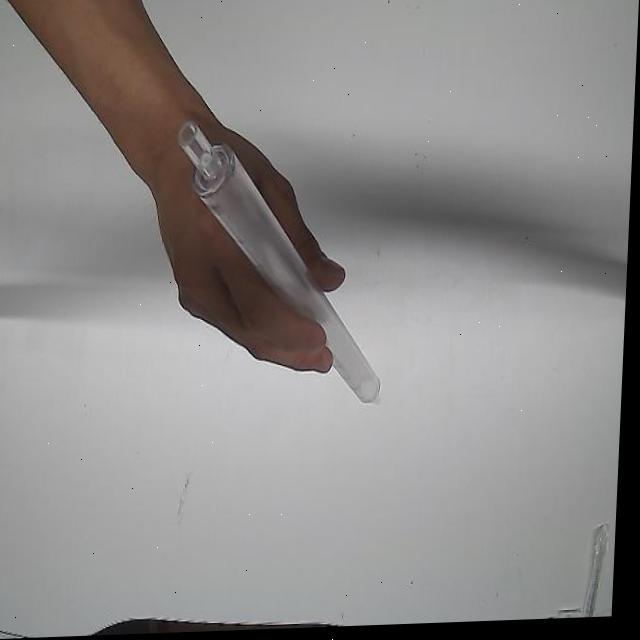Serelogical Pipet 50 mL: (167, 107, 399, 419)
